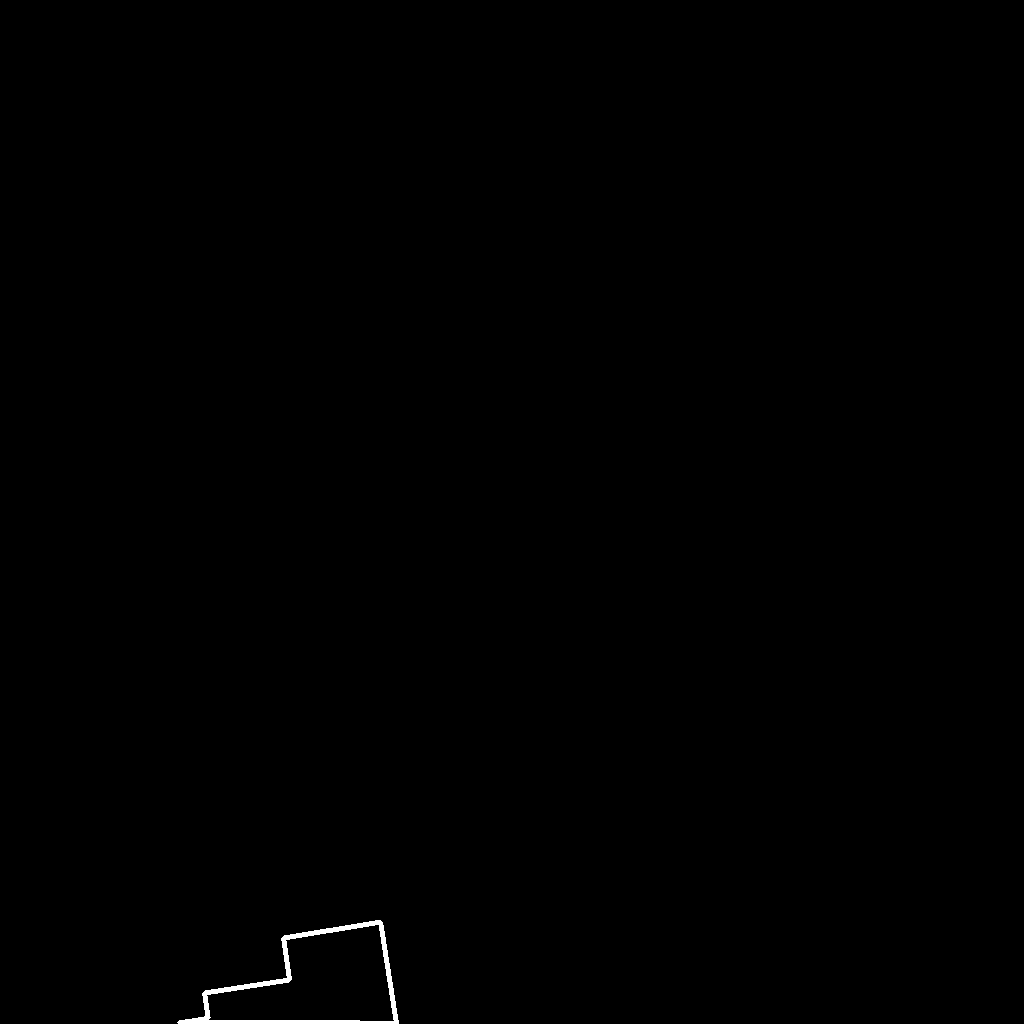building: (176, 922, 398, 1024)
